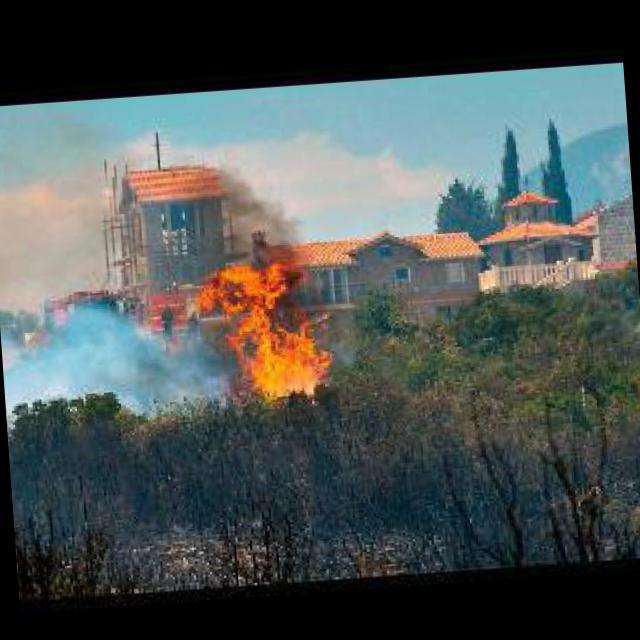fire: (200, 257, 342, 403), (22, 325, 36, 340)
smoke: (43, 282, 216, 418), (188, 157, 307, 279)
